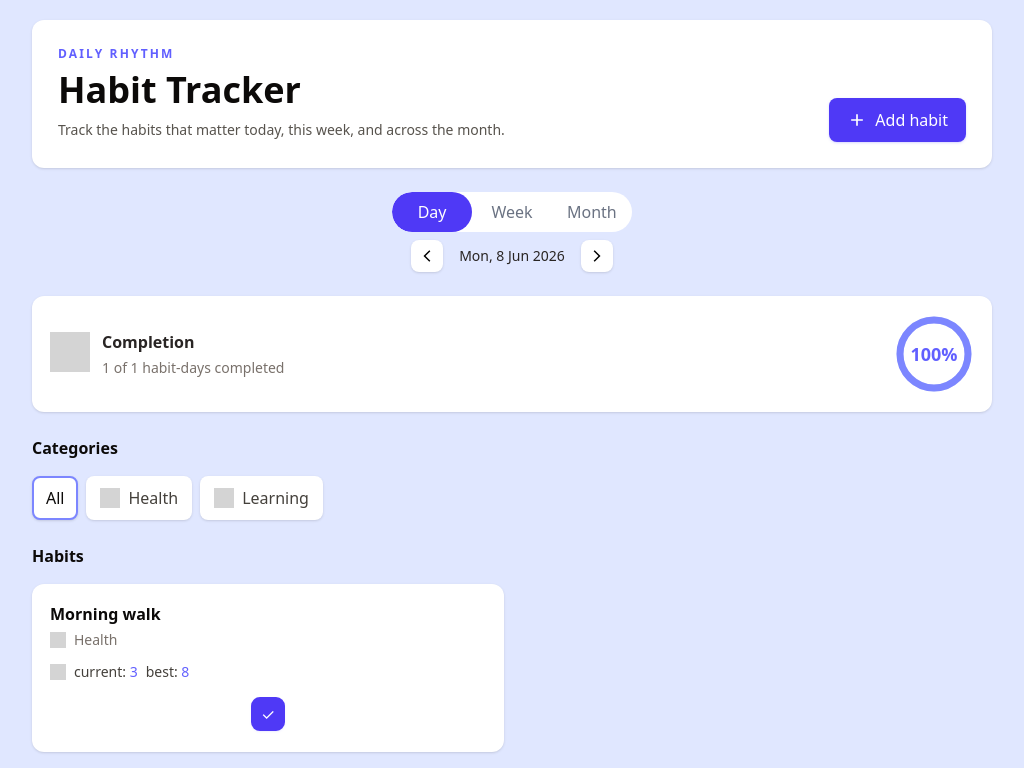
Test case: Home › filters habits by selected category
This screenshot has width=1024, height=768.
Step 1. Click the button "Learning" → click(262, 498), box [200,476,323,520]
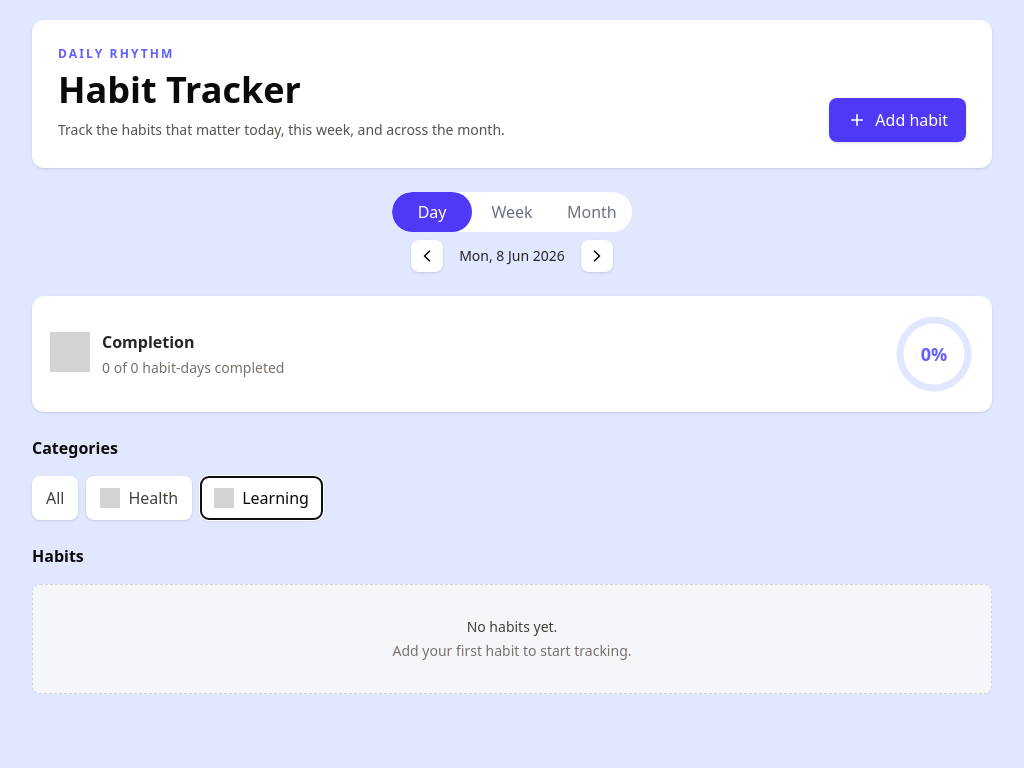
Expected: the text "No habits yet." is shown, [467,617,557,636]
